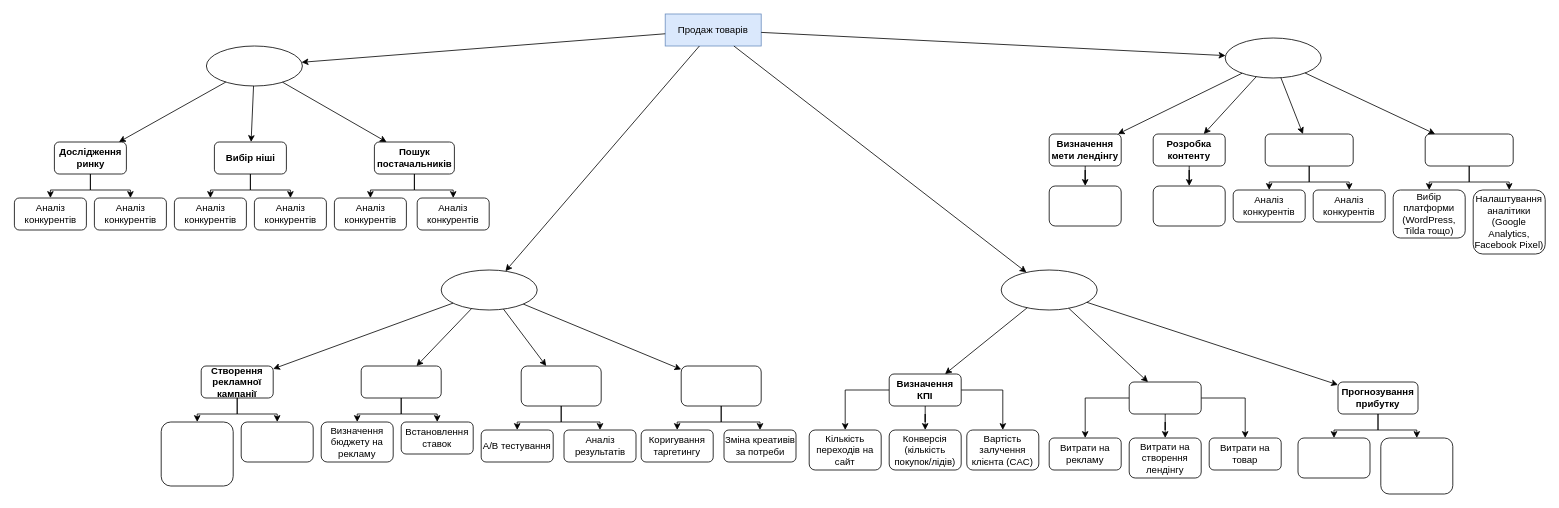
Some shapes in this 1559 by 508 pixel diagram are drawn without their labels. Here are the shapes that lost their labels. From the top down, the box of each, then its label:
(206, 45, 302, 86): Вибір товару
(1224, 37, 1321, 78): Створення лендінгу
(1264, 133, 1353, 166): Дизайн та UX/UI :
(1424, 133, 1513, 166): Технічна реалізація
(1048, 185, 1121, 226): Збір контактів, продаж, інформація.
(1152, 185, 1225, 226): Тексти, зображення, відео
(440, 269, 537, 310): Запуск реклами
(1000, 269, 1097, 310): Прорахунки декомпозиції
(360, 365, 441, 398): Бюджетування
(520, 365, 601, 406): Тестування рекламних матеріалів
(680, 365, 761, 406): Оптимізація кампанії
(1128, 381, 1201, 414): Аналіз витрат
(160, 421, 233, 486): Вибір типу реклами (картинка, відео, карусель)
(240, 421, 313, 462): Налаштування цільової аудиторії
(1297, 437, 1370, 478): Оцінка середнього чека
(1380, 437, 1453, 494): Розрахунок ROI (повернення інвестицій)
